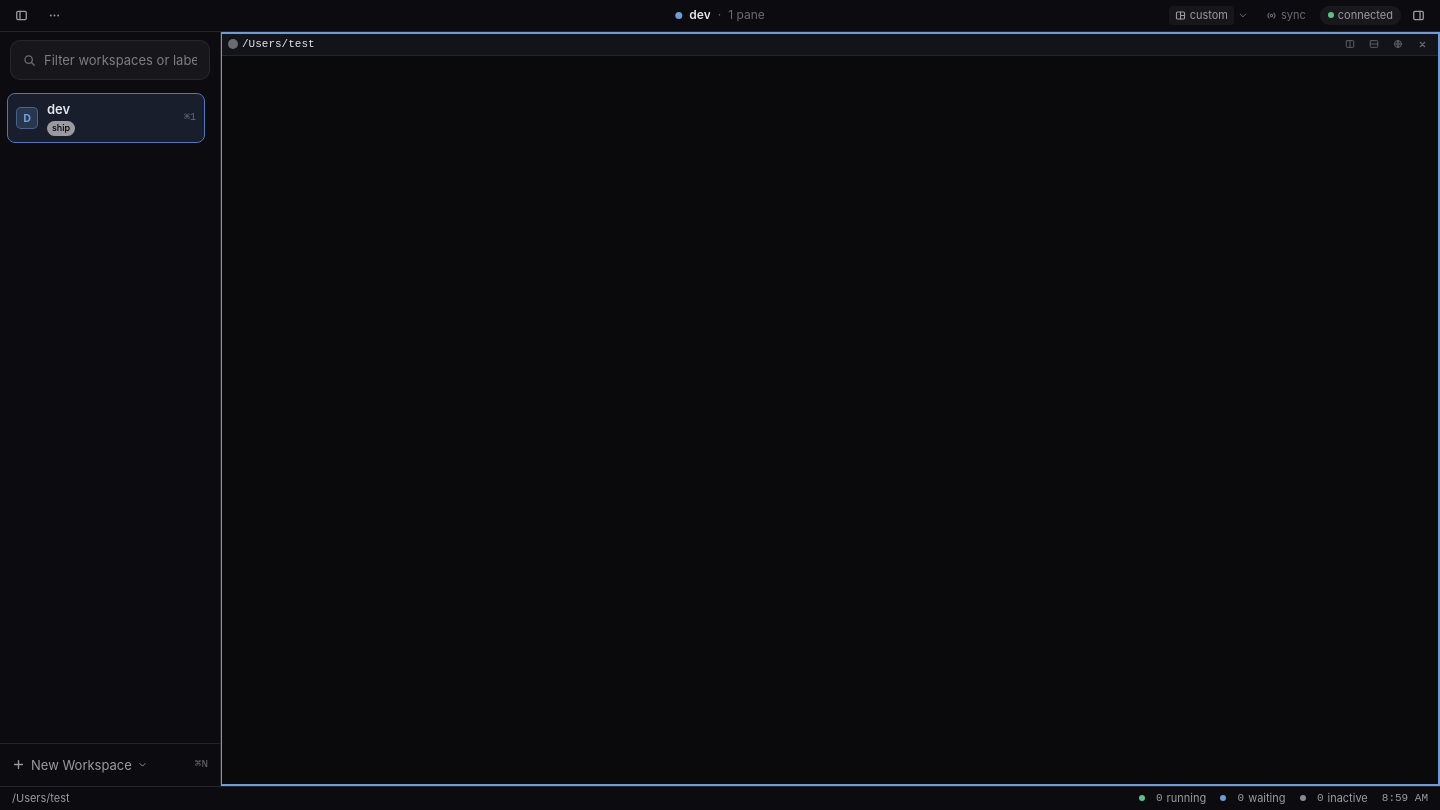
Scenario: opening the Settings window › opens from the ••• menu’s Settings… row
Click the button with test id "titlebar-menu-toggle" at (54, 16), box top-left (45, 6), bottom-right (64, 25)
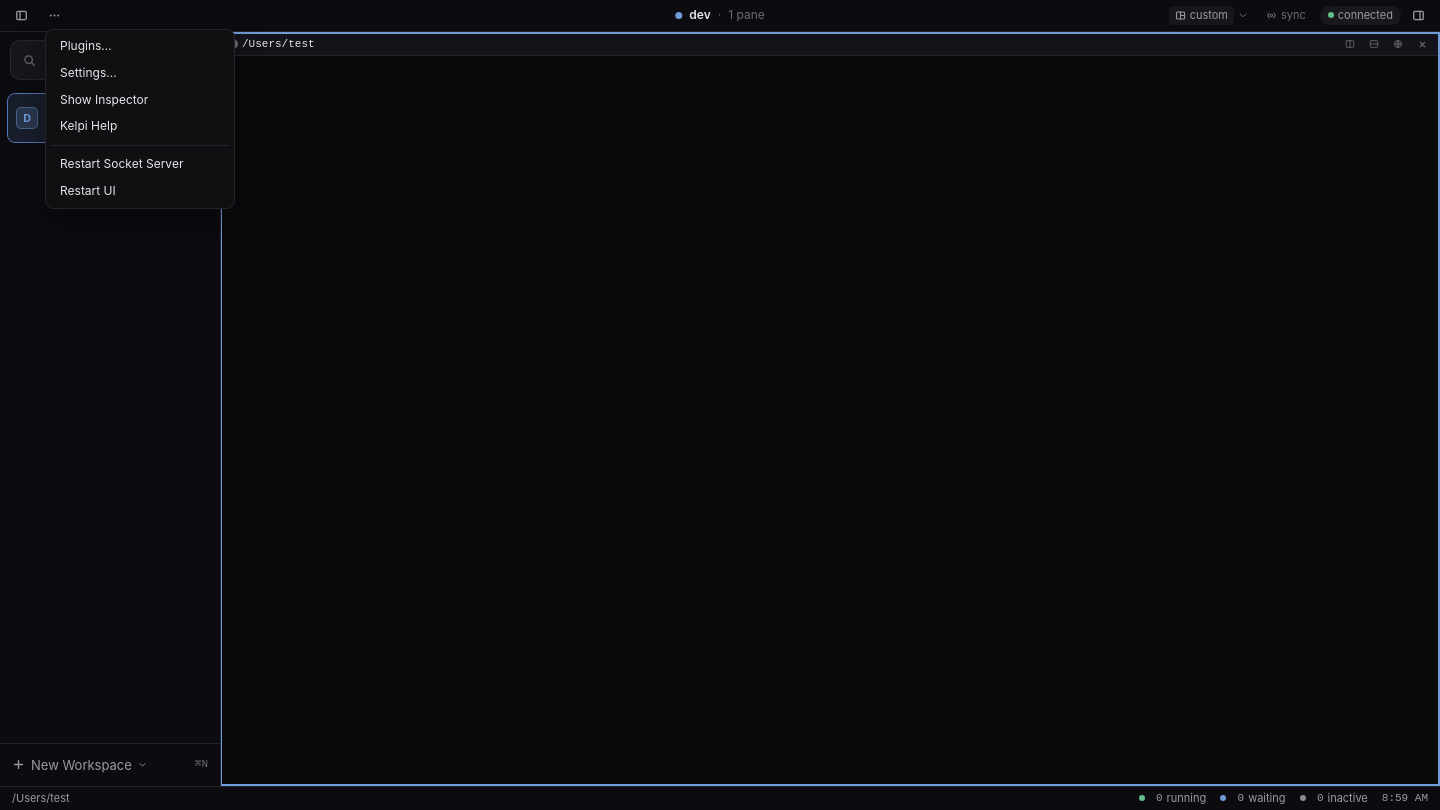
Check: the menu item "Settings…" is shown
Click the menu item "Settings…" at (140, 73), box top-left (50, 61), bottom-right (230, 86)
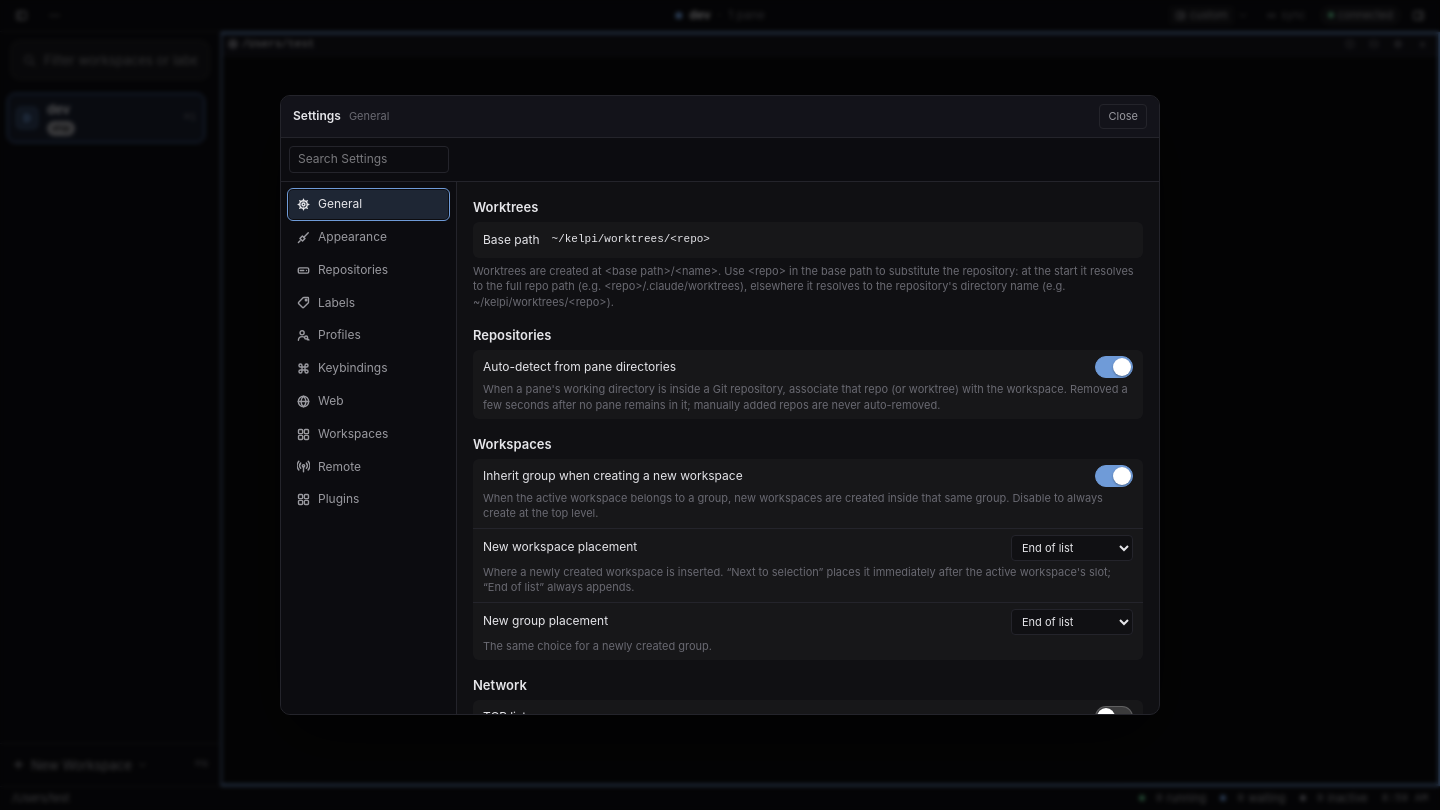
Check: the dialog with test id "settings-window" is shown, box top-left (280, 95), bottom-right (1160, 715)
